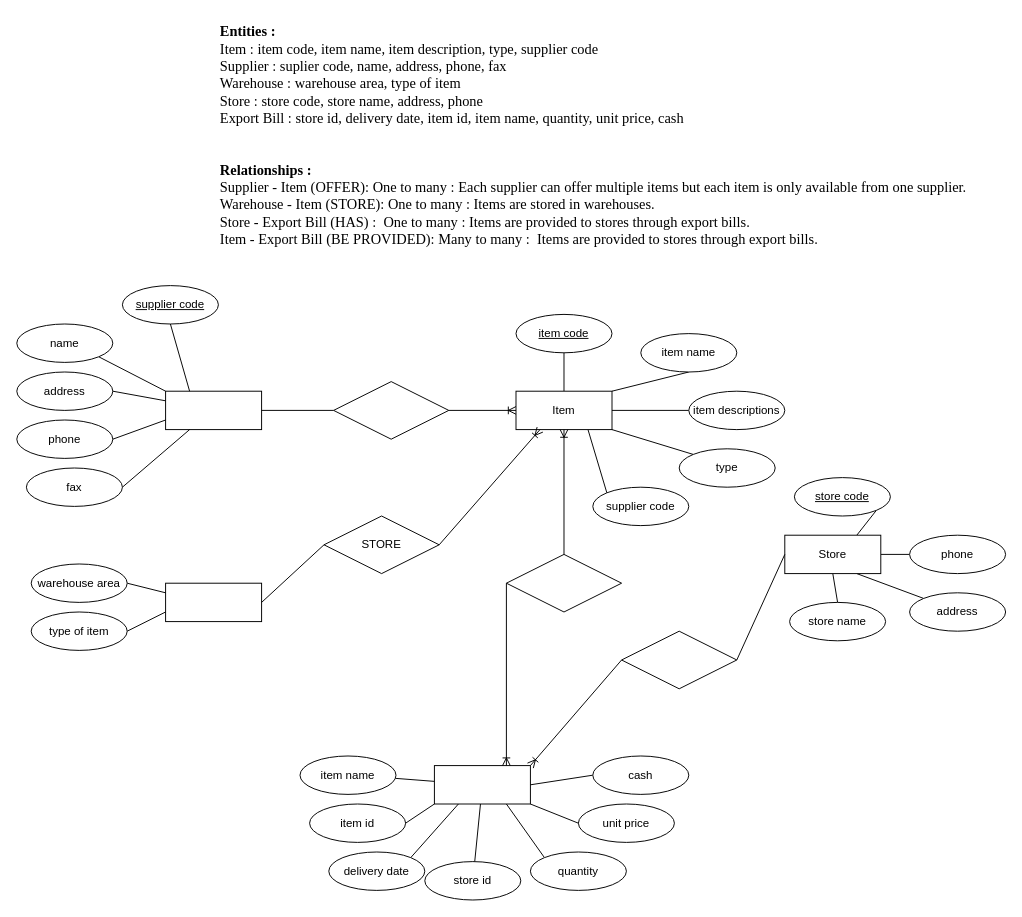
Image size: 1022x917. Some labels were removed from this diagram. The shapes that lost their labels are listed below. From the top down, each one's centre as x and y in pixels, then its label:
point (213, 410): Supplier
point (391, 410): OFFER
point (213, 602): Warehouse
point (563, 582): BE PROVIDED
point (679, 659): HAS
point (481, 784): Export Bill
